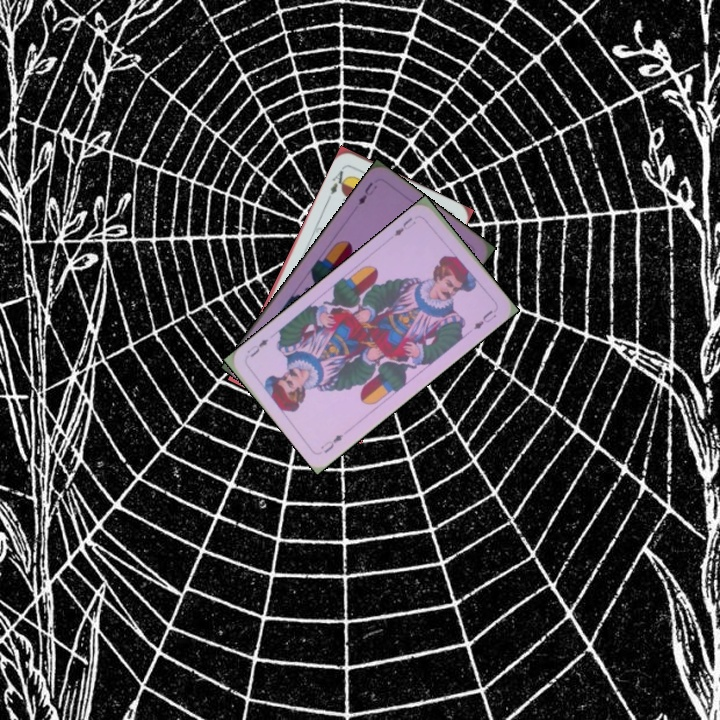EA: (326, 163, 351, 197)
EU: (354, 178, 380, 208), (390, 213, 419, 239), (316, 430, 345, 456)
